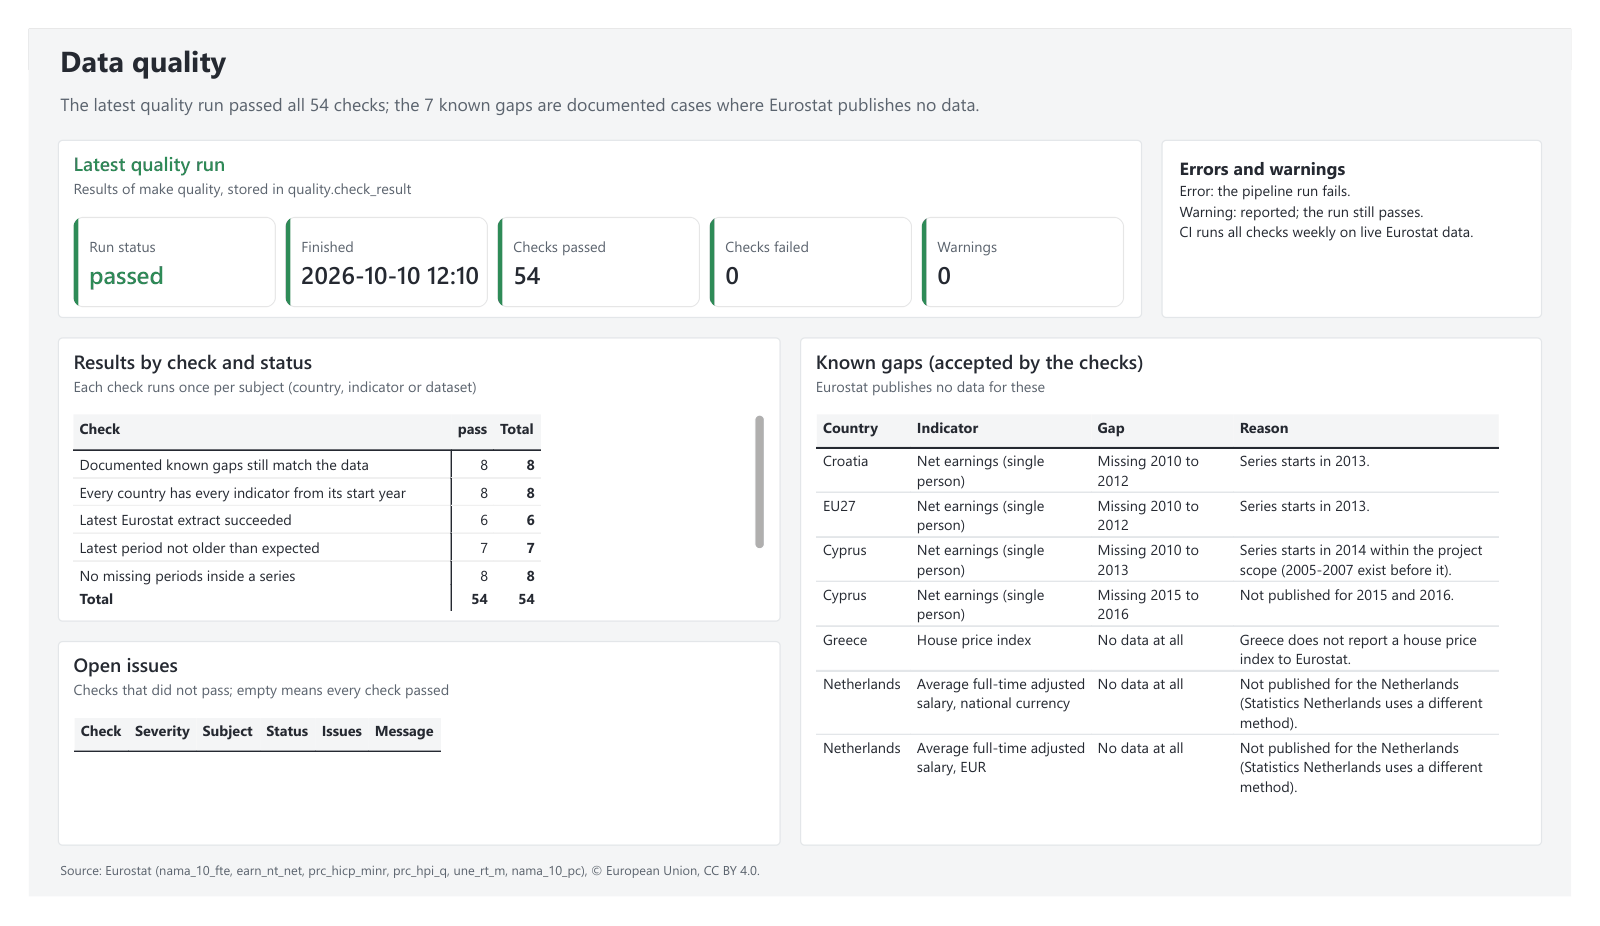

This screenshot's page, from the dashboard's own definition file:
{"tool":"powerbi","page":{"name":"Data quality","canvas":[1280,720],"ordinal":4},"visuals":[{"type":"textbox","box":[24,10,1232,40],"z":1000},{"type":"textbox","box":[24,52,1232,30],"z":2000},{"type":"cardVisual","title":"Latest quality run","fields":{"Data":["_Measures.Quality Run Status","_Measures.Quality Run Time","_Measures.Checks Passed","_Measures.Checks Failed","_Measures.Checks Warned"]},"box":[24,92,900,148],"z":3000},{"type":"textbox","box":[940,92,316,148],"z":4000},{"type":"pivotTable","title":"Results by check and status","fields":{"Columns":["v_quality_latest.status"],"Rows":["v_quality_latest.check_description"],"Values":["CountNonNull(v_quality_latest.subject)"]},"box":[24,256,600,236],"z":5000},{"type":"tableEx","title":"Known gaps (accepted by the checks)","fields":{"Values":["bi_dim_country.country_short_name","bi_dim_indicator.indicator_name","v_known_gaps.gap_description","v_known_gaps.reason"]},"box":[640,256,616,422],"z":6000},{"type":"tableEx","title":"Open issues","fields":{"Values":["v_quality_latest.check_name","v_quality_latest.severity","v_quality_latest.subject","v_quality_latest.status","v_quality_latest.issue_count","v_quality_latest.message"]},"box":[24,508,600,170],"z":7000},{"type":"textbox","box":[24,688,1232,24],"z":8000}]}

Visuals, with their boxes in screenshot pixels (x1, y1, x2, y2), scaled from the page's 1280x720 canvas onto the 1600x926 screenshot:
textbox: Rect(30, 13, 1570, 64)
textbox: Rect(30, 67, 1570, 105)
"Latest quality run" cardVisual: Rect(30, 118, 1155, 309)
textbox: Rect(1175, 118, 1570, 309)
"Results by check and status" pivotTable: Rect(30, 329, 780, 633)
"Known gaps (accepted by the checks)" tableEx: Rect(800, 329, 1570, 872)
"Open issues" tableEx: Rect(30, 653, 780, 872)
textbox: Rect(30, 885, 1570, 916)
